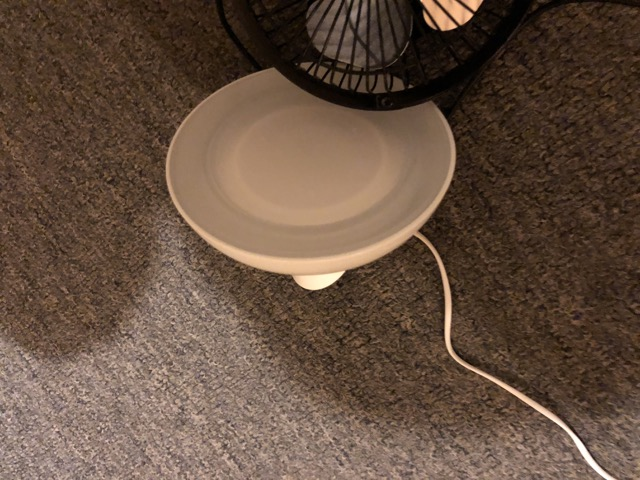fan: (206, 1, 541, 110)
light: (165, 58, 469, 304)
